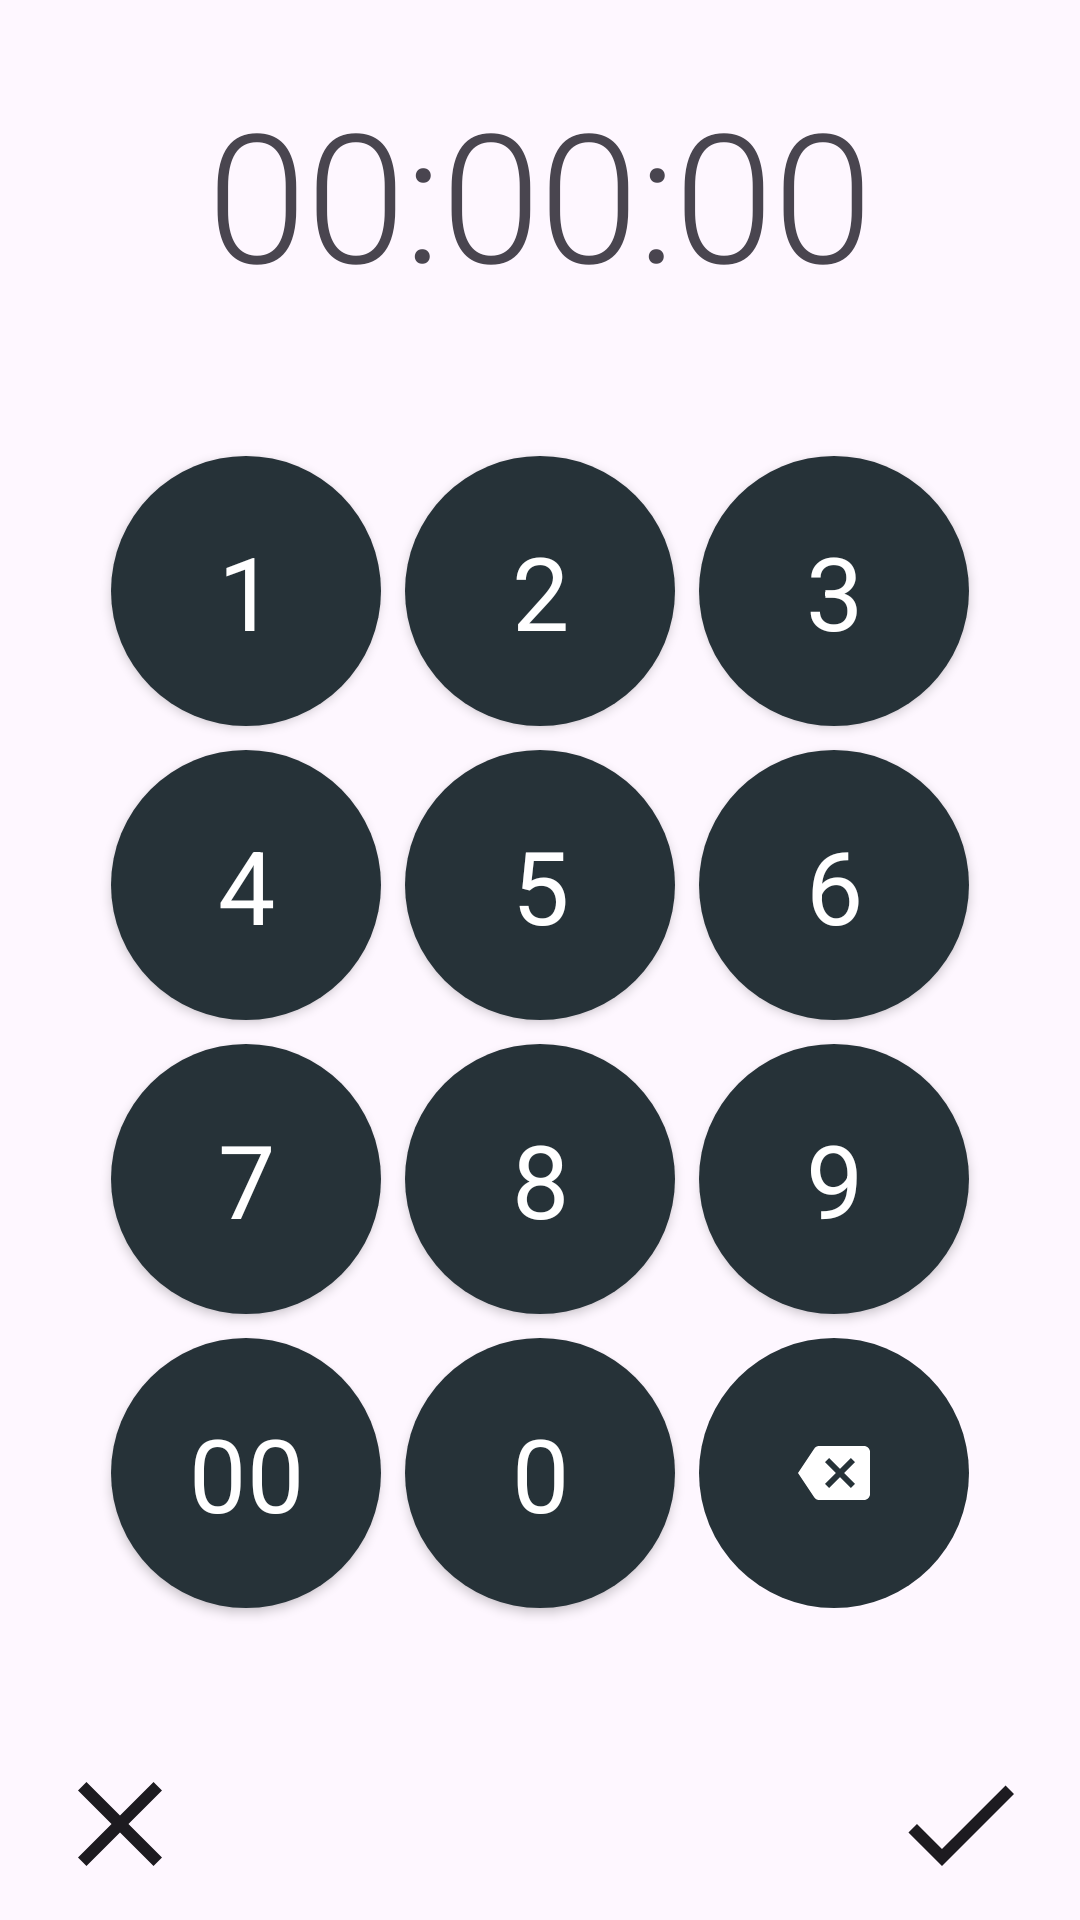

Screen size 1080w x 1920h. Icon name, then its box in pixels as detection(x1, y1, x2, y2):
Backspace: detection(699, 1338, 969, 1608)
Cancel: detection(78, 1782, 162, 1866)
OK: detection(908, 1785, 1014, 1866)
